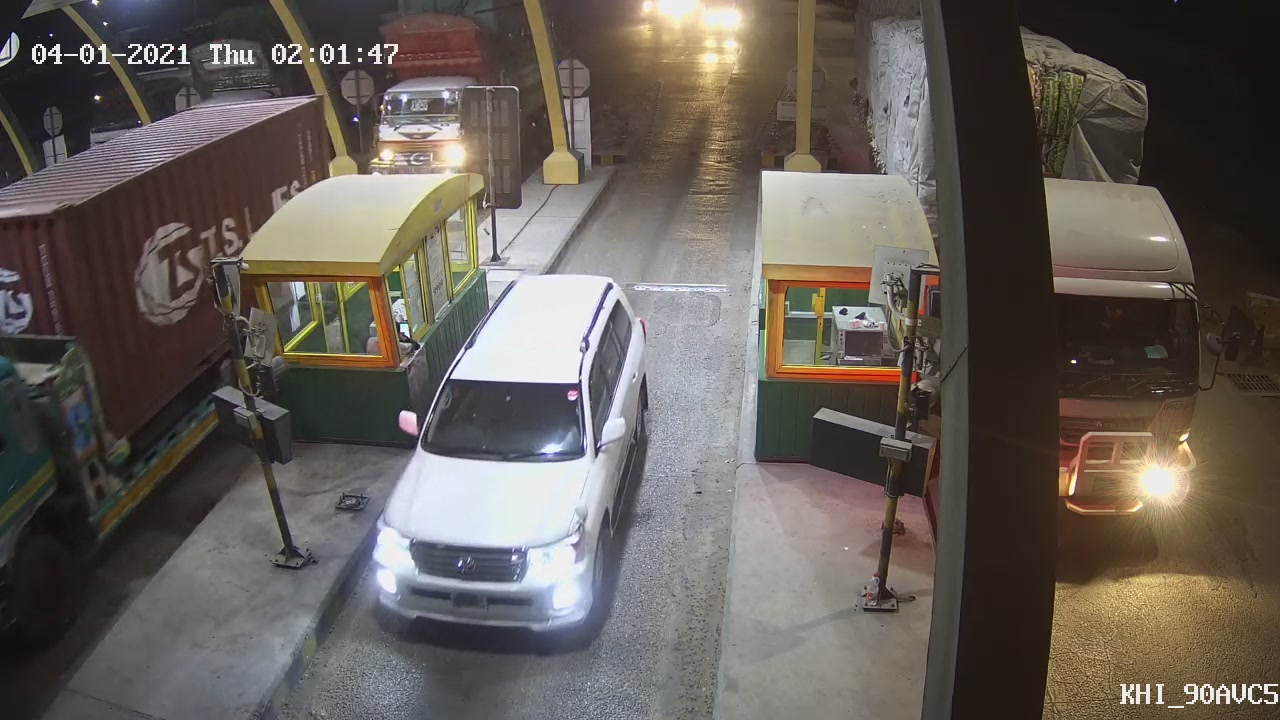F1: (369, 265, 659, 641)
